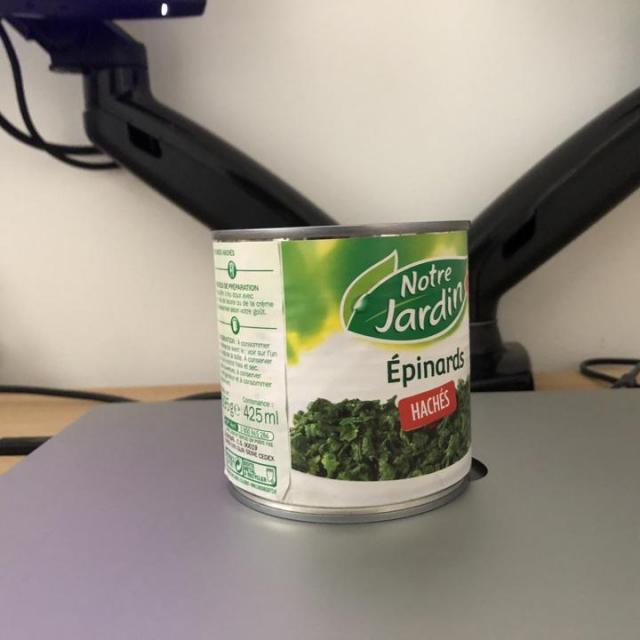recyclable: (208, 220, 477, 528)
